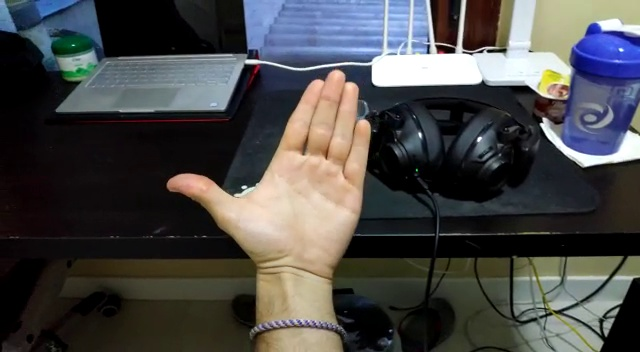Palm: (163, 67, 373, 279)
